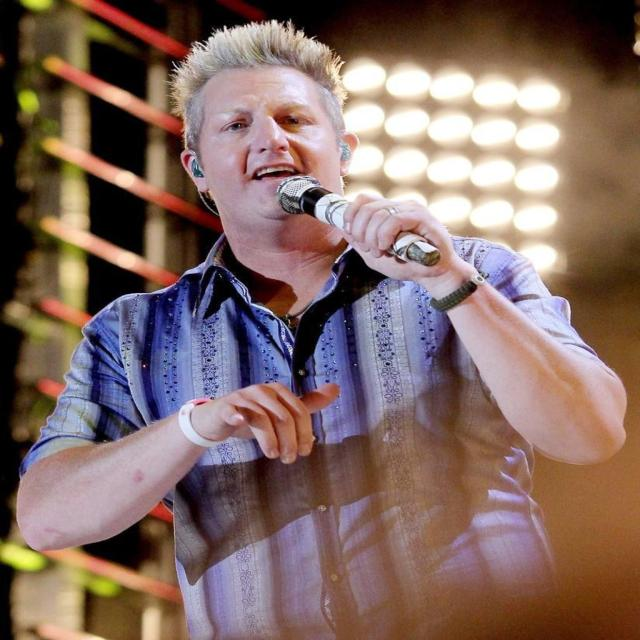Face: (203, 55, 343, 226)
